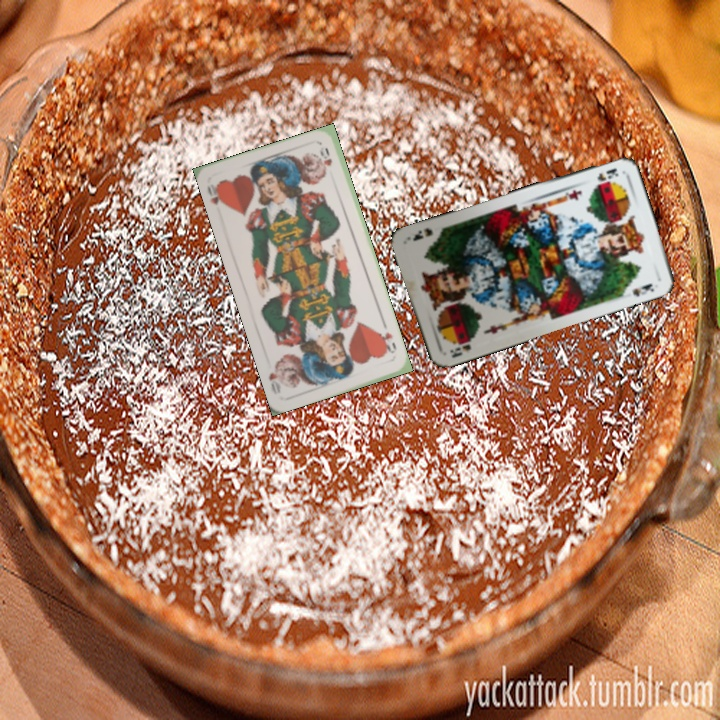HO: (203, 179, 229, 210), (376, 328, 399, 356)
SK: (446, 333, 479, 360), (593, 164, 621, 184)
